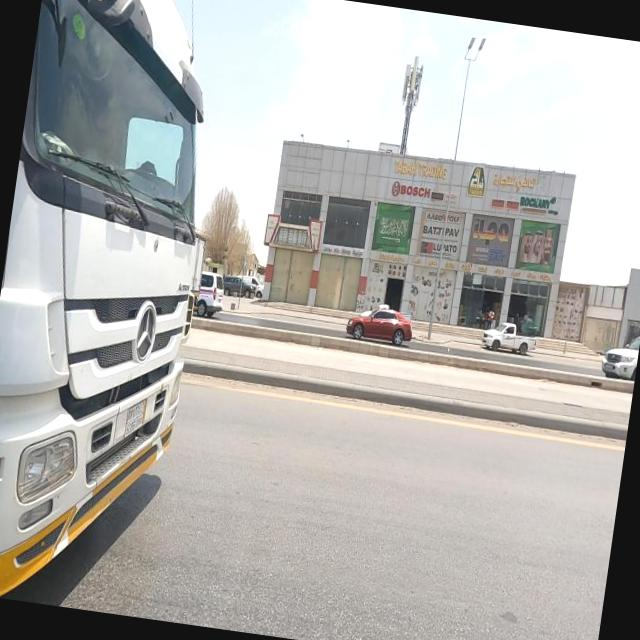debris: (228, 180, 358, 290)
